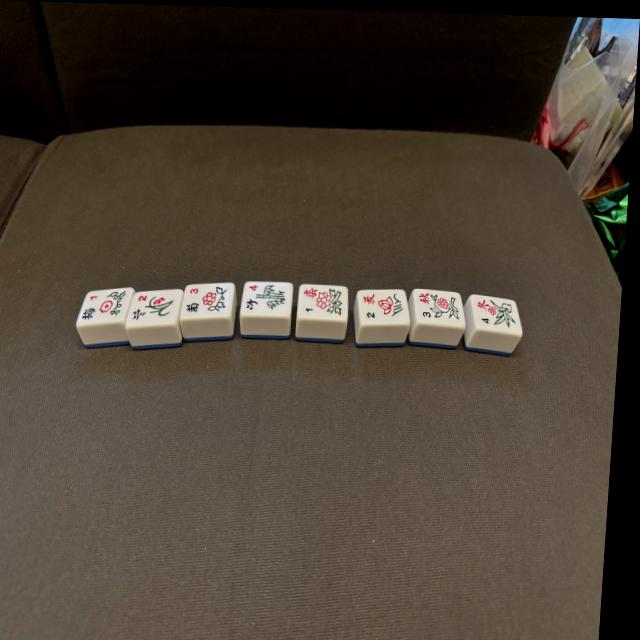f1: (77, 290, 130, 325)
f2: (128, 292, 181, 326)
f3: (181, 282, 234, 318)
f4: (241, 283, 293, 316)
ff1: (298, 285, 350, 320)
ff2: (357, 289, 412, 325)
ff3: (411, 290, 467, 324)
ff4: (469, 296, 524, 331)
